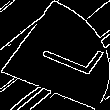L_NW: (16, 29, 94, 81)
